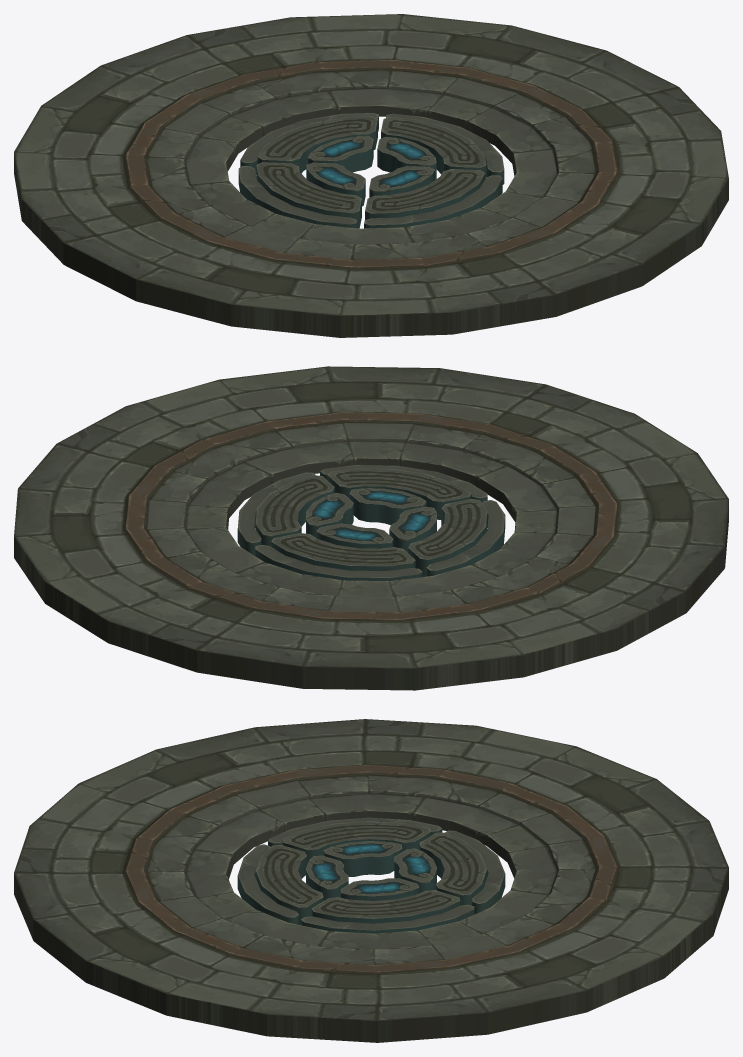
The model's file is sn_pvp_zhongxin_001.FBX.
3 renders of one model, top to bottom at view 1: azimuth 30°, elevation 25°; view 2: azimuth 150°, elevation 25°; view 3: azimuth 270°, elevation 25°, orthographic.
Parts seen in each view (by area): view 1: sn_pvp_zhongxin_001; view 2: sn_pvp_zhongxin_001; view 3: sn_pvp_zhongxin_001.
Part boxes in pixels (x1=…): sn_pvp_zhongxin_001: x1=14, y1=14, x2=728, y2=337; sn_pvp_zhongxin_001: x1=14, y1=366, x2=728, y2=690; sn_pvp_zhongxin_001: x1=14, y1=719, x2=728, y2=1042.
Bounding box in the file's own units: 4.77 × 4.77 × 0.1711.
